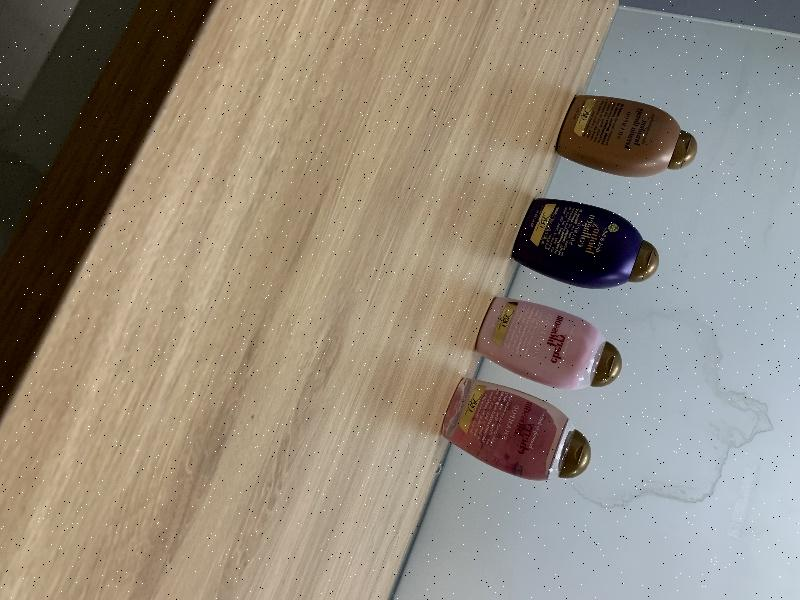BiotinCollagen_Shampoo: (511, 198, 659, 290)
BrazilianKeratinTherapy_Shampoo: (556, 94, 697, 178)
CherryBlossom_Conditioner: (474, 297, 622, 390)
CherryBlossom_Shampoo: (441, 377, 591, 481)
